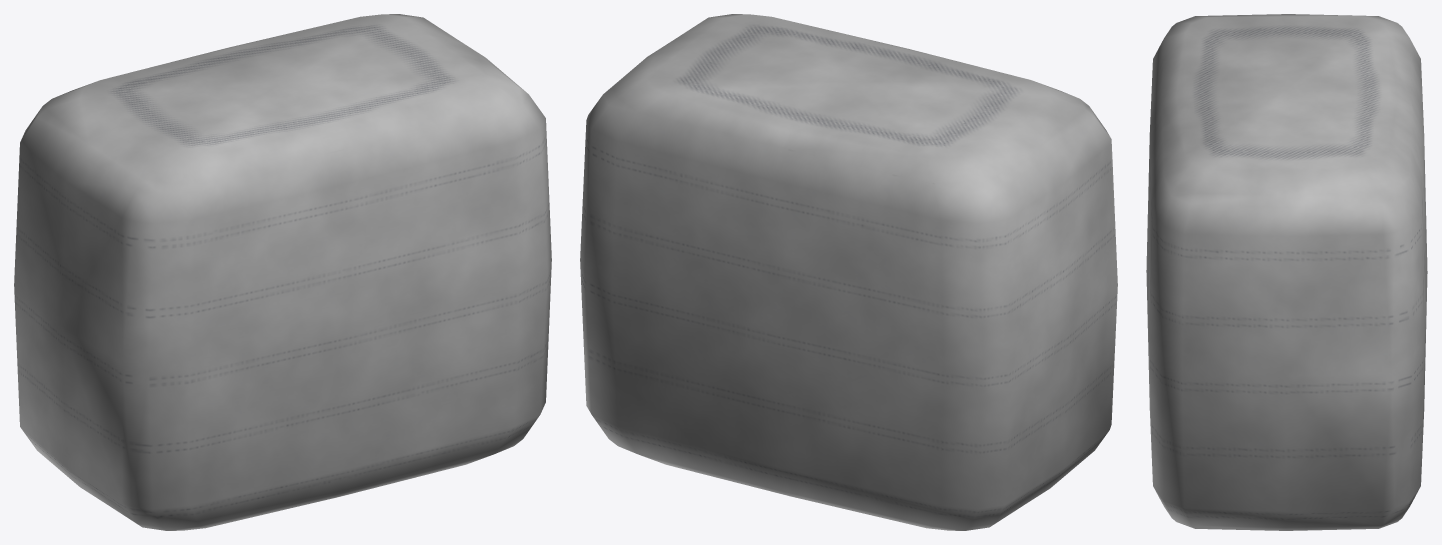
File: UpperTorso_C1.fbx
The picture shows the model from 3 angles, left to right: view 1: azimuth 30°, elevation 25°; view 2: azimuth 150°, elevation 25°; view 3: azimuth 270°, elevation 25°; orthographic projection. The views are drawn at different scales.
Visible parts, largest first — view 1: Civ_UniformeEnfermeria_UpperTorso_C1; view 2: Civ_UniformeEnfermeria_UpperTorso_C1; view 3: Civ_UniformeEnfermeria_UpperTorso_C1.
Part boxes in pixels (<box>): Civ_UniformeEnfermeria_UpperTorso_C1: <box>14,14,551,530</box>; Civ_UniformeEnfermeria_UpperTorso_C1: <box>580,14,1117,530</box>; Civ_UniformeEnfermeria_UpperTorso_C1: <box>1146,14,1427,530</box>.
Bounding box in the file's own units: 2.19 × 1.81 × 1.25.
